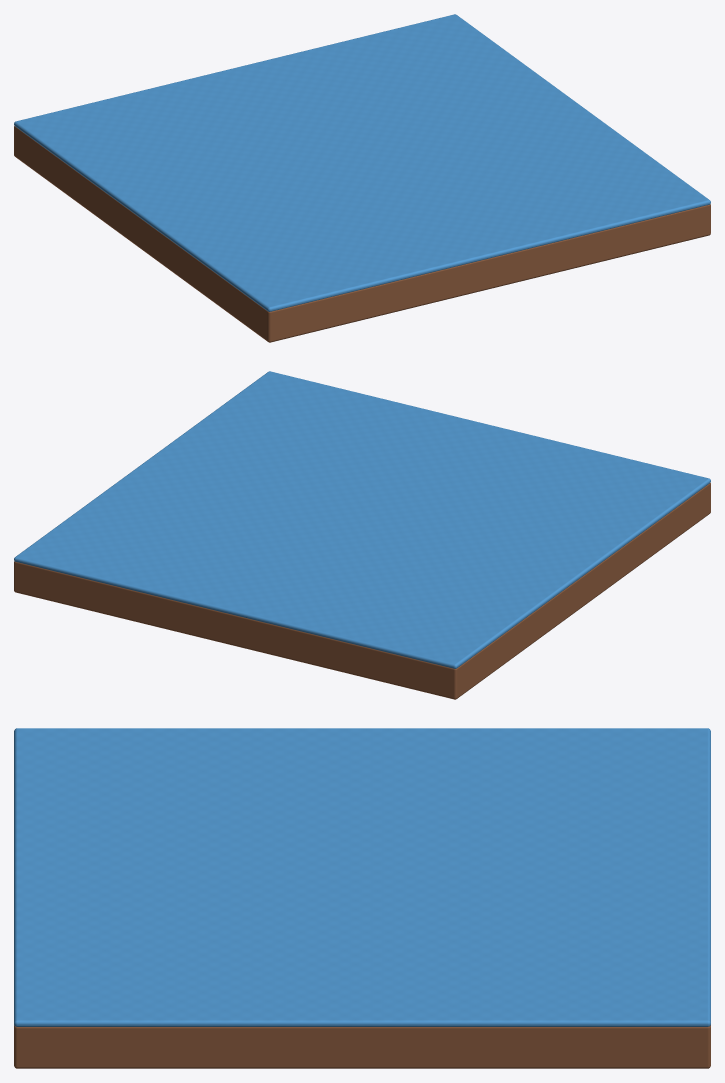
Rendered from Floor_Carpet_2m.glb.
3 renders of one model, top to bottom at view 1: azimuth 30°, elevation 25°; view 2: azimuth 150°, elevation 25°; view 3: azimuth 270°, elevation 25°, orthographic. The views are drawn at different scales.
Visible parts, largest first — view 1: Floor_Carpet_2m; view 2: Floor_Carpet_2m; view 3: Floor_Carpet_2m.
Part boxes in pixels (x1=…): Floor_Carpet_2m: x1=14, y1=14, x2=710, y2=342; Floor_Carpet_2m: x1=14, y1=371, x2=710, y2=699; Floor_Carpet_2m: x1=14, y1=728, x2=710, y2=1068.
Bounding box in the file's own units: 2 × 0.153 × 2.
2 materials, 1 textured.
